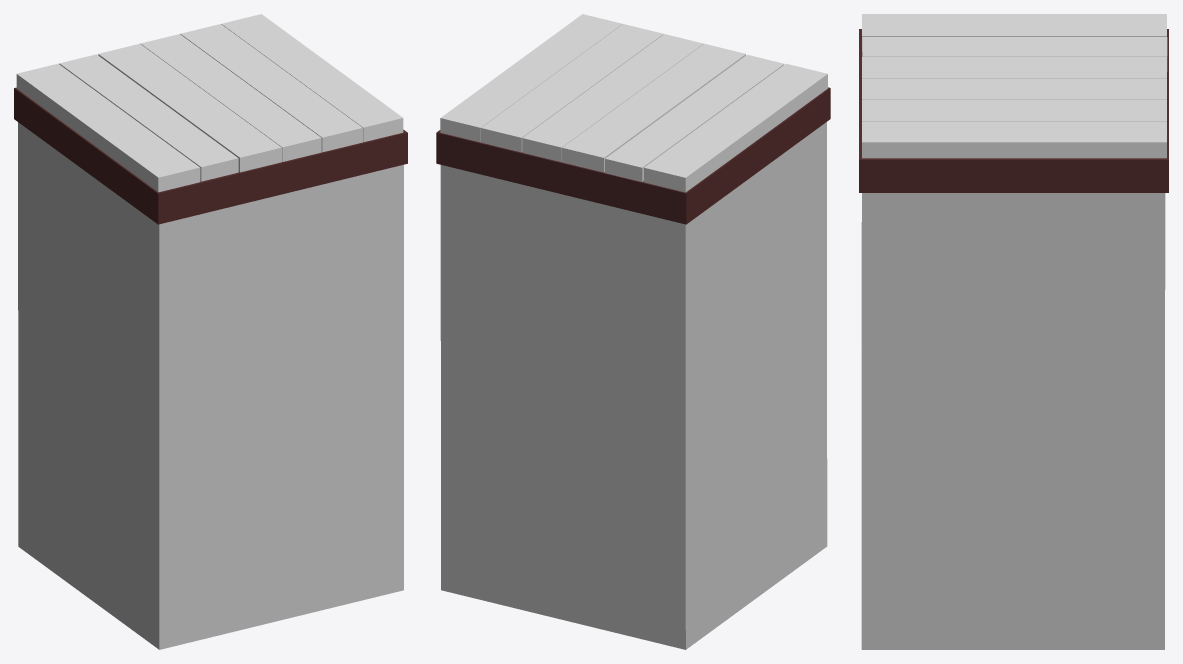
The model's file is culuster_tahta_Ana.fbx.
3 views of the same model, side by side, from view 1: azimuth 30°, elevation 25°; view 2: azimuth 150°, elevation 25°; view 3: azimuth 270°, elevation 25° (orthographic). The views are drawn at different scales.
Parts seen in each view (by area): view 1: woodAnaCuluster, alt.002, woodBlock.006, woodBlock.004, woodBlock.002, woodBlock.001, woodBlock.003, woodBlock.005; view 2: woodAnaCuluster, alt.002, woodBlock.006, woodBlock.004, woodBlock.002, woodBlock.001, woodBlock.003, woodBlock.005; view 3: woodAnaCuluster, woodBlock.001, alt.002, woodBlock.006, woodBlock.004, woodBlock.002, woodBlock.003, woodBlock.005.
Boxes of the visible parts, left/top/right/bottom form: woodAnaCuluster: left=18, top=122, right=403, bottom=649; alt.002: left=14, top=87, right=407, bottom=224; woodBlock.006: left=16, top=63, right=200, bottom=192; woodBlock.004: left=98, top=43, right=281, bottom=172; woodBlock.002: left=180, top=24, right=362, bottom=152; woodBlock.001: left=221, top=14, right=403, bottom=142; woodBlock.003: left=140, top=34, right=321, bottom=161; woodBlock.005: left=59, top=54, right=238, bottom=181; woodAnaCuluster: left=440, top=122, right=827, bottom=649; alt.002: left=436, top=87, right=830, bottom=224; woodBlock.006: left=644, top=63, right=827, bottom=192; woodBlock.004: left=562, top=43, right=745, bottom=172; woodBlock.002: left=481, top=24, right=663, bottom=152; woodBlock.001: left=440, top=14, right=622, bottom=142; woodBlock.003: left=522, top=34, right=703, bottom=162; woodBlock.005: left=605, top=54, right=784, bottom=181; woodAnaCuluster: left=861, top=193, right=1165, bottom=649; woodBlock.001: left=862, top=121, right=1166, bottom=158; alt.002: left=859, top=29, right=1168, bottom=192; woodBlock.006: left=862, top=14, right=1166, bottom=51; woodBlock.004: left=862, top=56, right=1166, bottom=78; woodBlock.002: left=862, top=100, right=1166, bottom=121; woodBlock.003: left=862, top=79, right=1166, bottom=99; woodBlock.005: left=862, top=37, right=1167, bottom=71.
Size of the model in its own units: 200 by 362 by 200.
